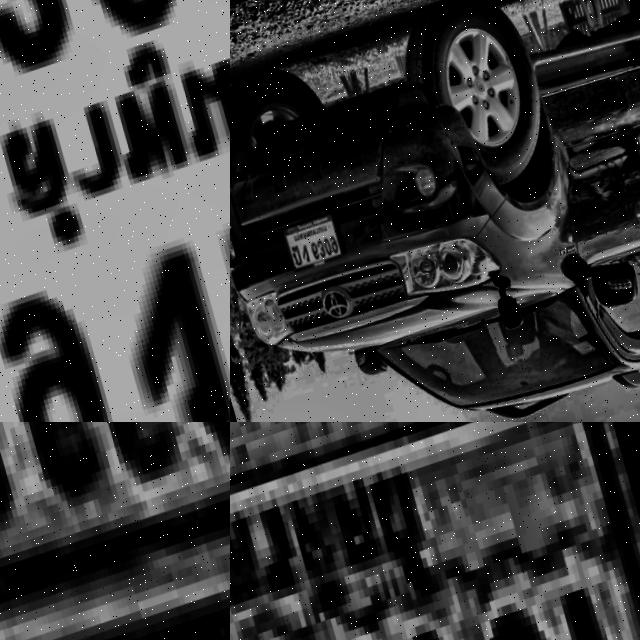license-plate: (0, 0, 230, 422), (230, 422, 640, 640), (0, 422, 230, 640), (278, 212, 343, 276)
